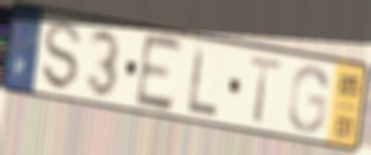3: (85, 28, 123, 100)
E: (133, 30, 186, 115)
G: (286, 64, 331, 135)
L: (186, 42, 220, 119)
S: (41, 19, 84, 94)
T: (246, 53, 286, 125)
